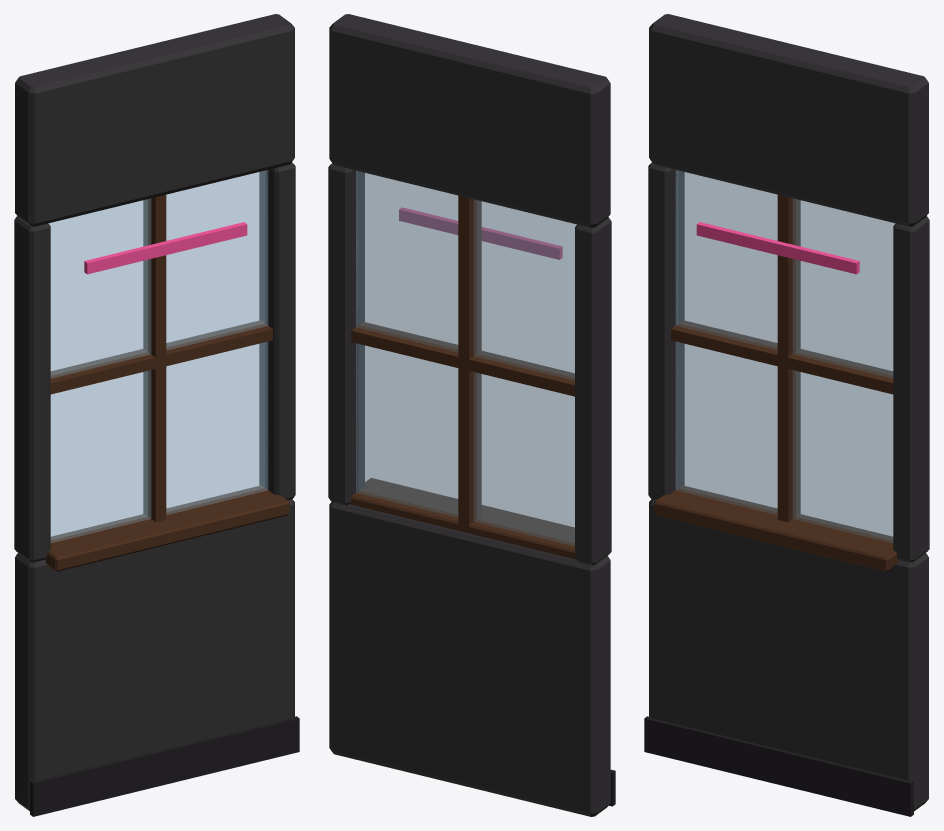
File: wall_window.obj
The picture shows the model from 3 angles, left to right: view 1: azimuth 30°, elevation 25°; view 2: azimuth 150°, elevation 25°; view 3: azimuth 330°, elevation 25°; orthographic projection.
Parts seen in each view (by area): view 1: wall_window; view 2: wall_window; view 3: wall_window.
Part boxes in pixels (x1=…): wall_window: x1=14, y1=14, x2=299, y2=816; wall_window: x1=328, y1=14, x2=615, y2=816; wall_window: x1=644, y1=14, x2=929, y2=816.
Size of the model in its own units: 1 by 2.6 by 0.18.
